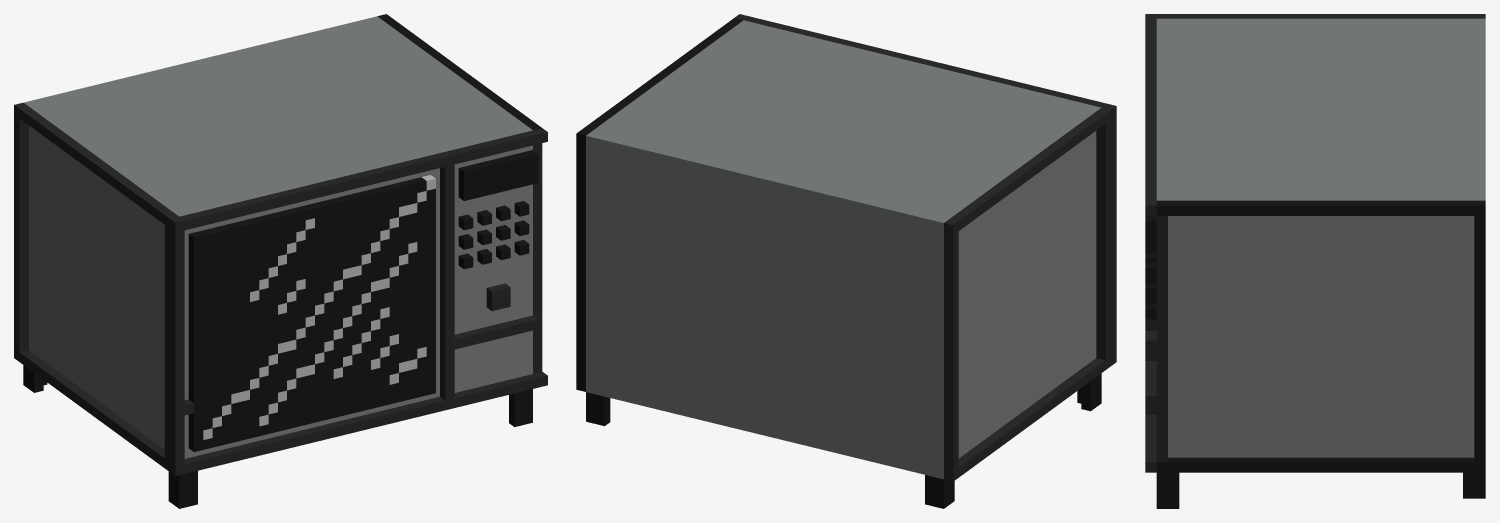
Rendered from Microondas.obj.
The picture shows the model from 3 angles, left to right: view 1: azimuth 30°, elevation 25°; view 2: azimuth 150°, elevation 25°; view 3: azimuth 270°, elevation 25°; orthographic projection. The views are drawn at different scales.
Bounding box in the file's own units: 4 × 3 × 3.
Materials: 1 (1 with a texture image).
